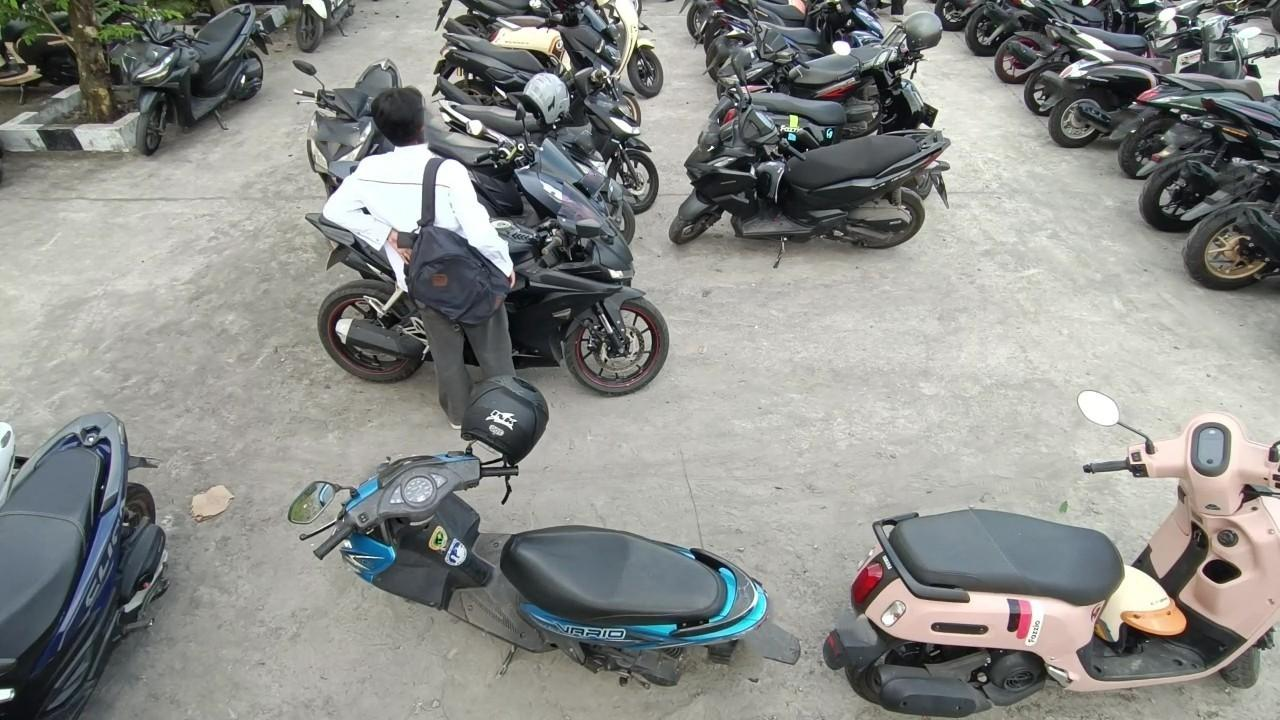motorcycle: (281, 373, 798, 694), (825, 378, 1280, 720), (299, 186, 684, 401), (0, 408, 177, 720), (680, 70, 944, 260), (1046, 6, 1264, 149), (117, 0, 266, 147), (287, 46, 401, 232)
